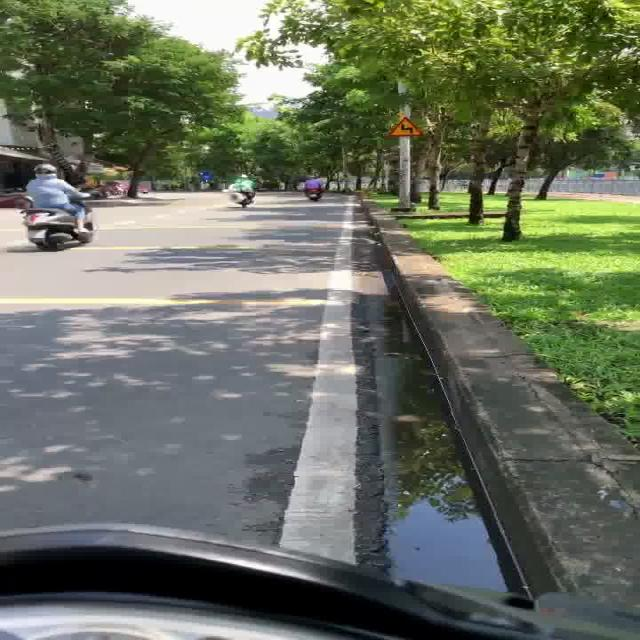Bien bao nhieu cho ngoat nguy hiem lien tiep: (382, 114, 428, 138)
